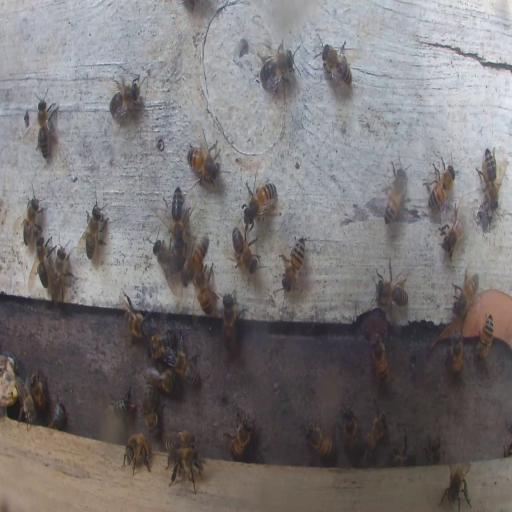bee: (257, 41, 297, 95), (80, 188, 107, 264), (424, 156, 456, 214), (318, 39, 353, 92), (382, 157, 408, 225), (242, 176, 278, 224), (374, 262, 407, 313), (476, 146, 501, 213), (35, 88, 58, 160), (169, 444, 203, 492), (108, 75, 143, 121), (440, 461, 472, 511), (224, 408, 254, 460), (19, 185, 45, 245), (220, 290, 242, 359), (280, 234, 306, 292), (164, 188, 190, 246), (451, 270, 480, 318), (187, 144, 221, 184), (172, 338, 200, 386), (232, 224, 258, 275), (181, 235, 208, 283), (122, 433, 152, 475), (363, 408, 387, 460), (121, 294, 147, 339), (195, 262, 217, 315), (151, 237, 176, 283), (50, 243, 68, 304), (12, 376, 35, 422), (306, 422, 334, 459), (440, 217, 464, 259), (165, 428, 197, 458), (142, 381, 160, 433), (387, 436, 418, 466), (34, 236, 51, 290), (370, 333, 388, 383), (475, 312, 493, 362), (110, 385, 136, 418), (342, 407, 359, 455), (148, 327, 174, 358), (28, 372, 47, 414), (446, 333, 462, 375), (150, 365, 175, 390), (51, 401, 67, 429), (426, 436, 442, 463)
